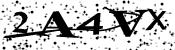2: (11, 8, 30, 34)
4: (73, 10, 107, 39)
A: (36, 7, 77, 41)
V: (108, 7, 147, 39)
X: (147, 3, 170, 34)
